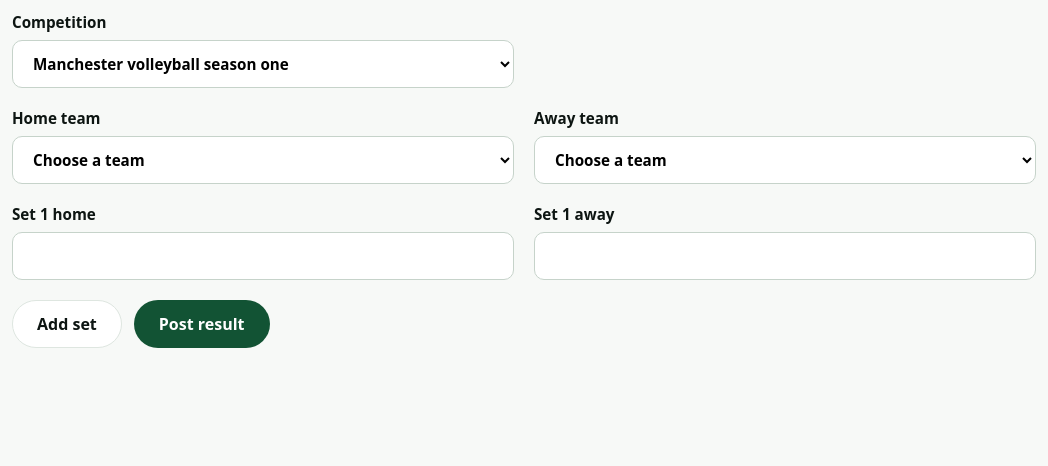
it: VolleyballResultForm › lets the organizer pick registered sides and type set scores
The image size is (1048, 466).
Step 1. Select "Spike" in the dropdown labelled "Home team" → [263, 160], box left=12, top=136, right=514, bottom=184
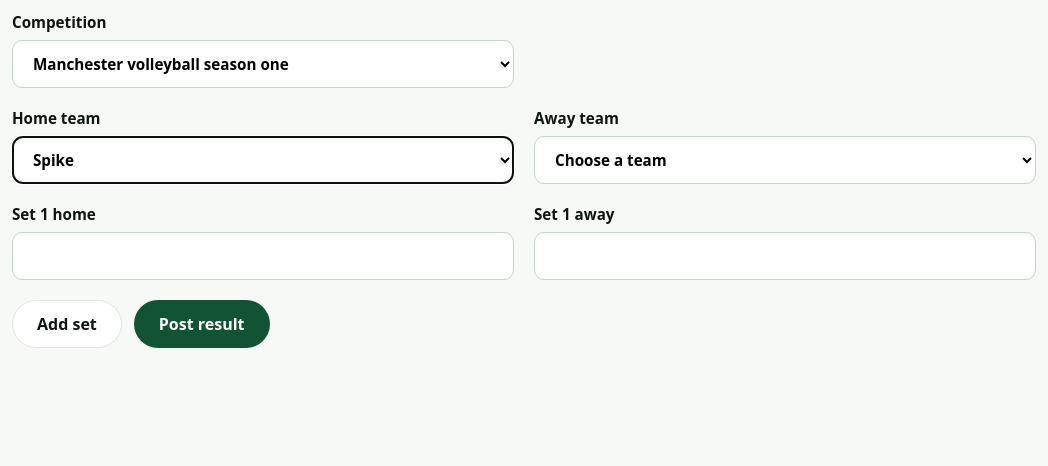
Step 2. Select "Block" in the dropdown labelled "Away team" → [785, 160], box left=534, top=136, right=1036, bottom=184
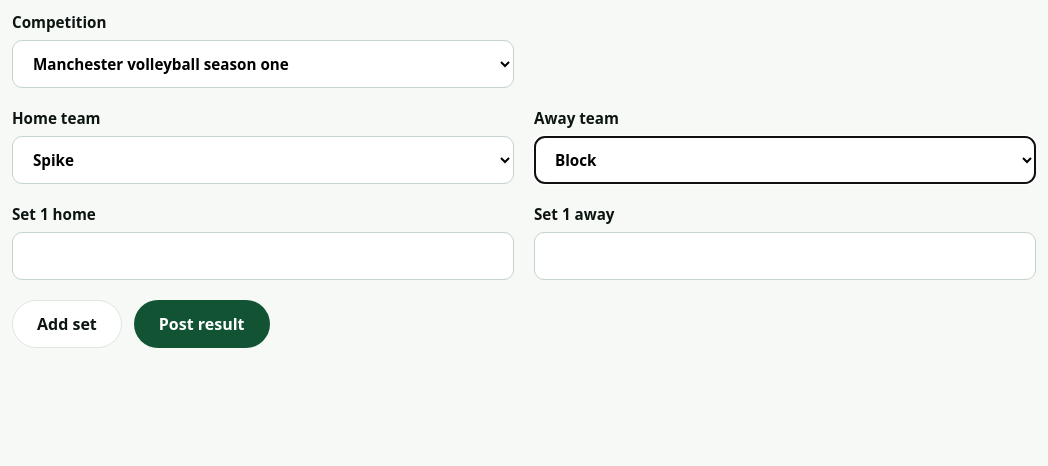
Expected: the number field labelled "Set 1 home" is shown, left=12, top=232, right=514, bottom=280
Expected: the number field labelled "Set 1 away" is shown, left=534, top=232, right=1036, bottom=280
Step 3. Click the button "Add set" → [67, 324], box left=12, top=300, right=122, bottom=348
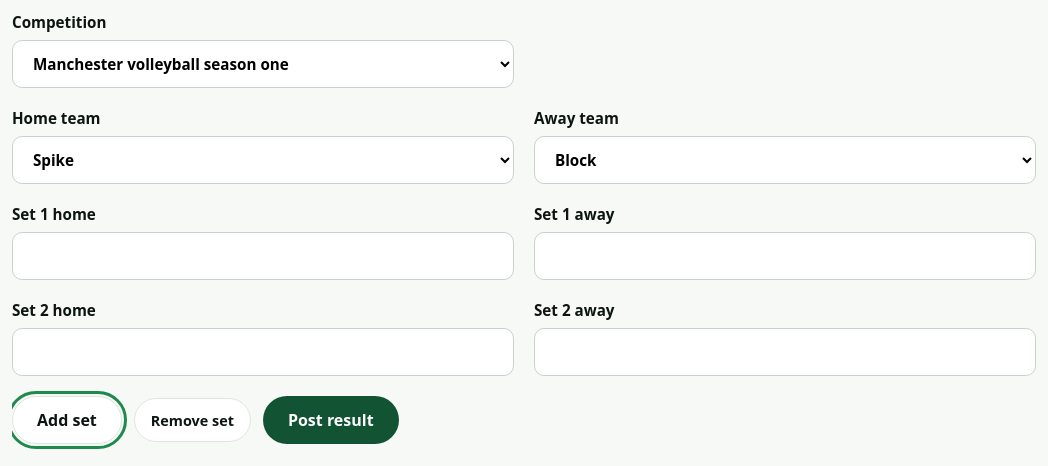
Expected: the number field labelled "Set 2 home" is shown, left=12, top=328, right=514, bottom=376
